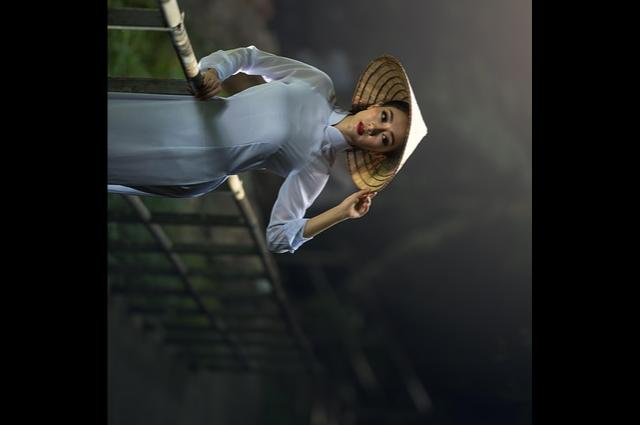Non_Gorille: (119, 0, 495, 288)
